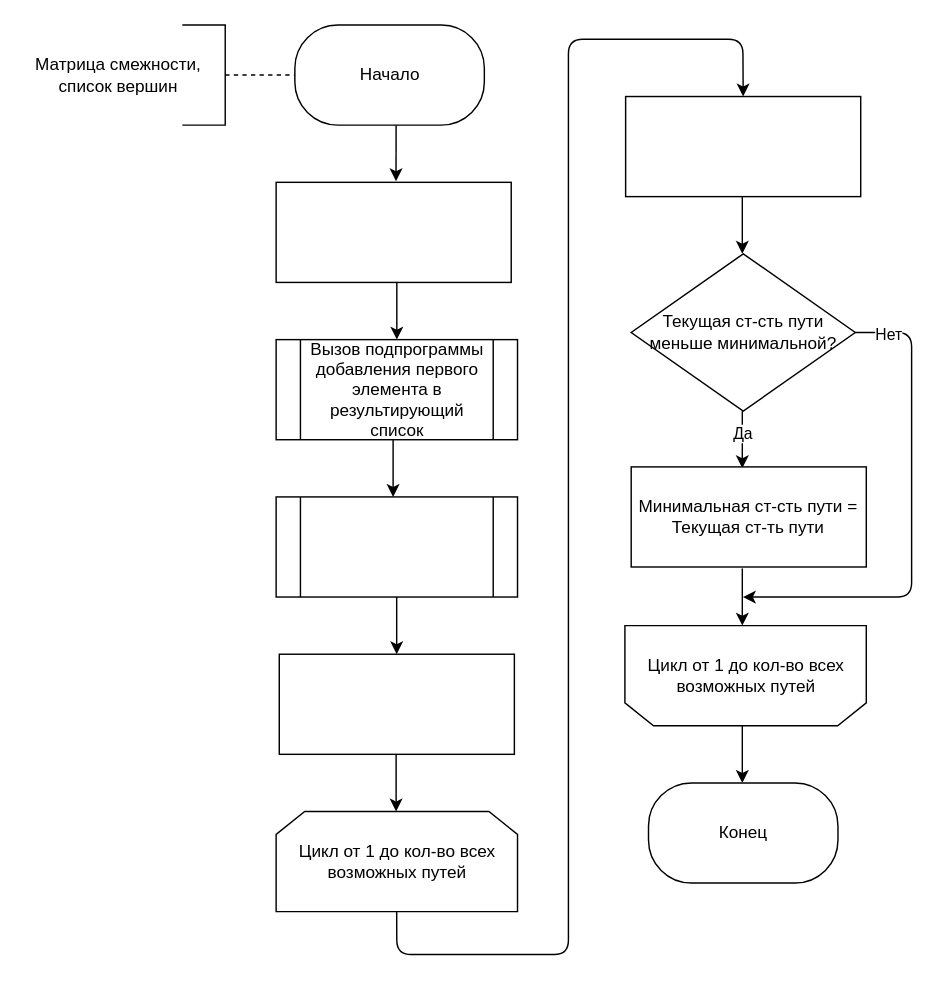
This 948x991 diagram has some shape labels left out. The shapes that lost their labels are listed below. From the top down, each one's centre as x and y in pixels, then its label:
At (742,146): "Инициализация текущей ст-ти пути ст-тью пути для i-ой вершины".
At (393,231): "Инициализация минимальной, текущей стоимости пути и кол-ва путей нулем".
At (396,546): "Вызов подпрограммы получения всех возможный путей".
At (396,703): "Инициализация минимальной ст-ти пути ст-тью пути для 0 вершины".
